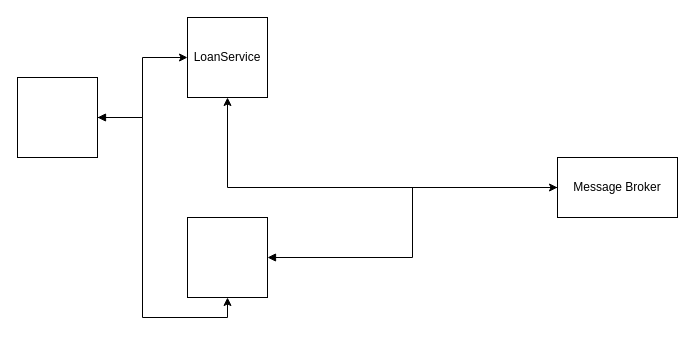
Image size: 695x343. Some labels were removed from this diagram. The centre of each missing label's shape, as x and y in pixels:
"Customer Service" belongs at [227,257].
"Front End" belongs at [57,117].
